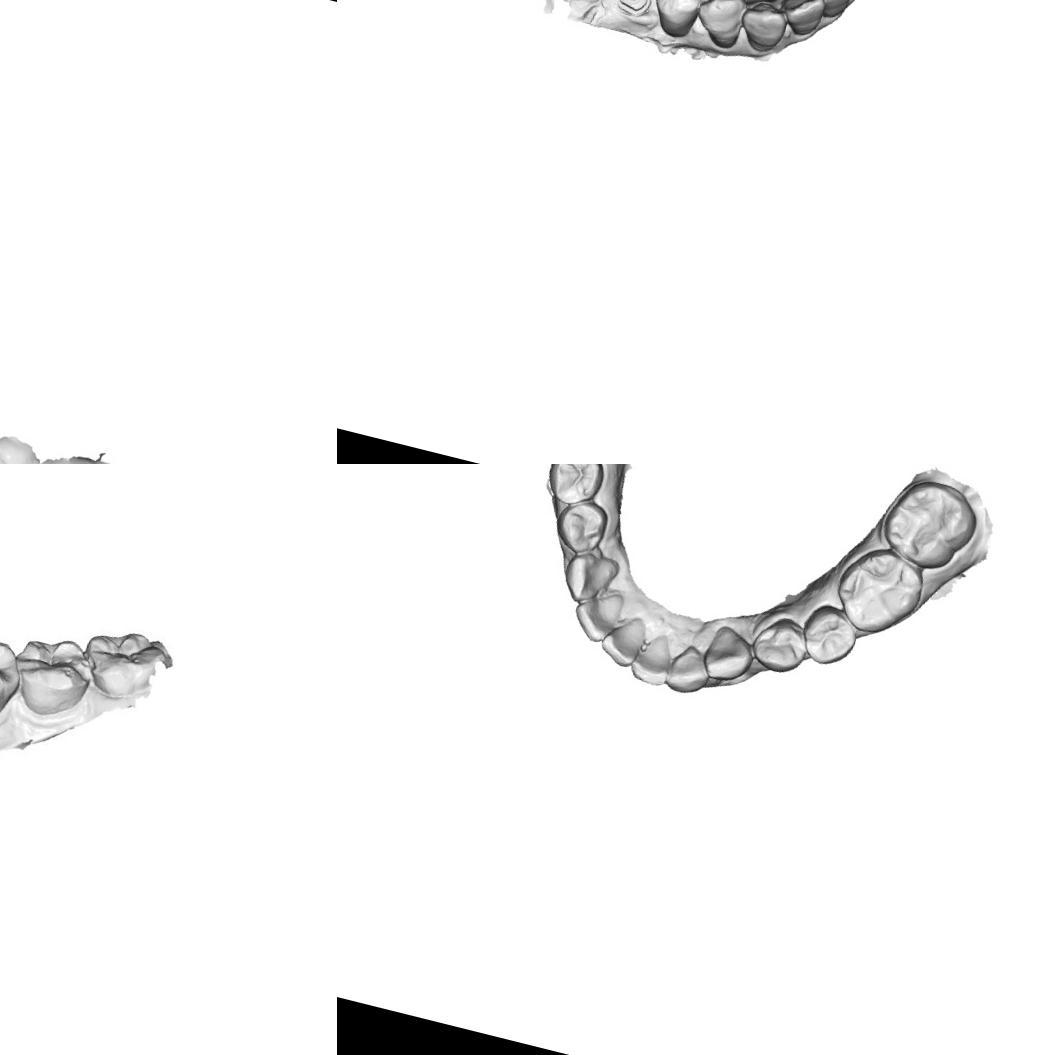canine: (558, 546, 622, 610), (699, 624, 758, 687), (734, 0, 792, 58)
implant: (612, 0, 655, 18)
incisor: (568, 592, 619, 645), (626, 634, 676, 688), (664, 644, 714, 698), (596, 618, 642, 670), (773, 0, 827, 40), (800, 0, 859, 20)
molar: (874, 471, 985, 579), (828, 537, 931, 643), (79, 616, 171, 702), (10, 632, 95, 713), (0, 625, 27, 723)
premolar: (796, 601, 862, 671), (748, 614, 811, 677), (550, 494, 611, 559), (687, 0, 750, 50), (541, 464, 607, 511), (643, 0, 709, 42)
